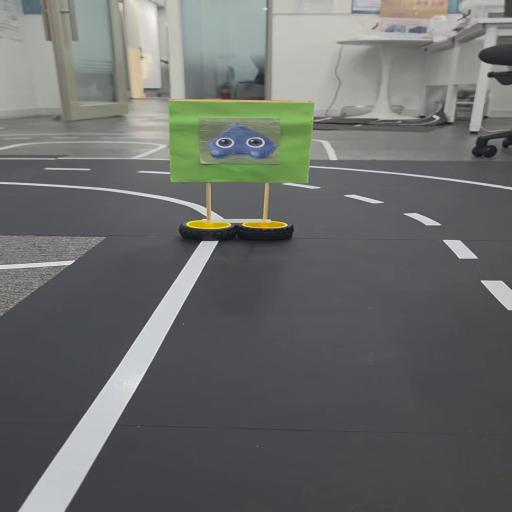Sign_B: (160, 95, 333, 253)
